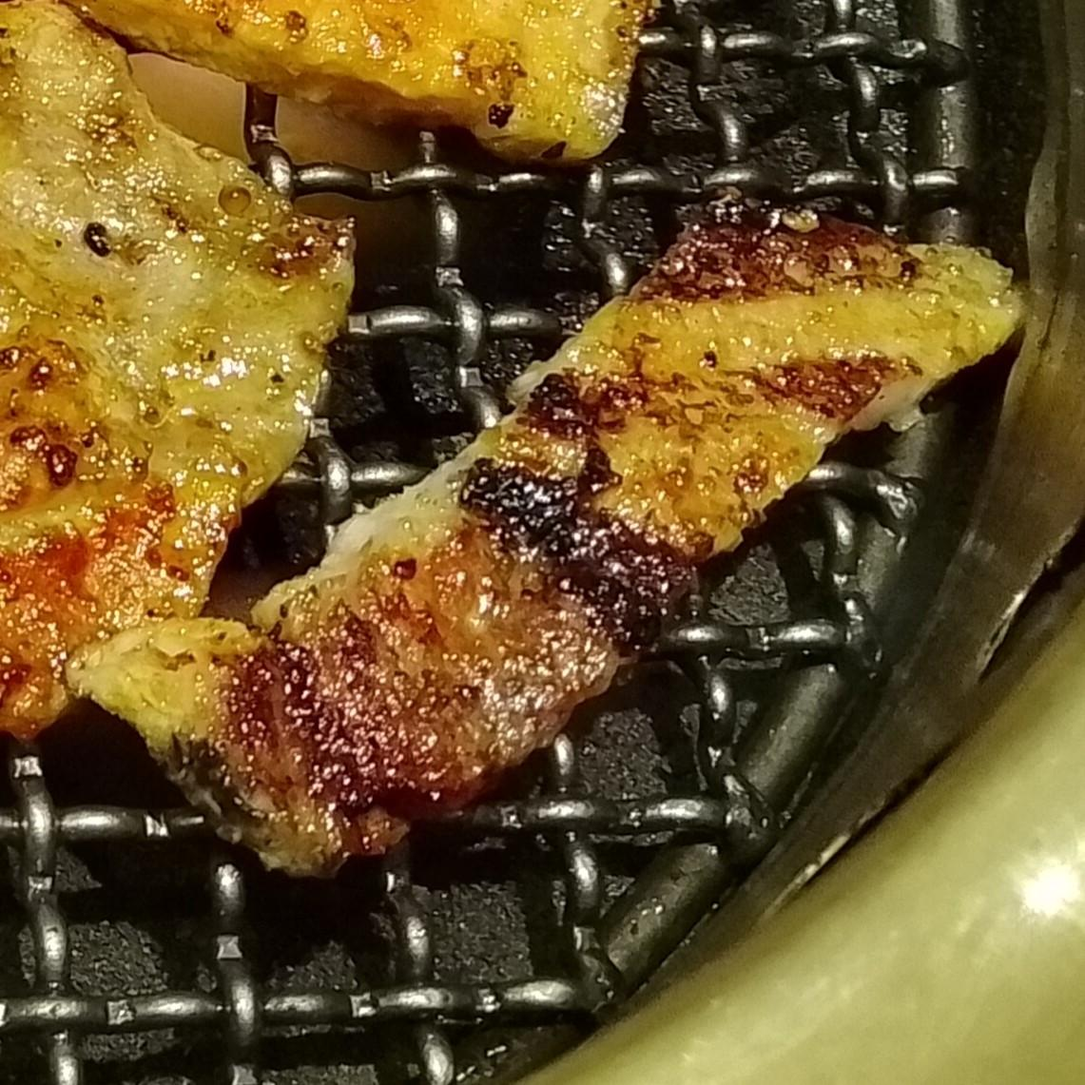Overcooked: (68, 204, 1021, 875)
